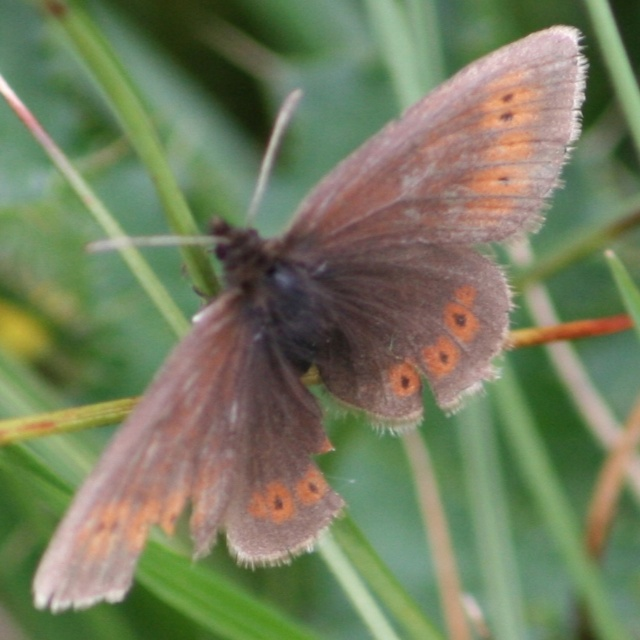Butterfly: (28, 23, 590, 617)
